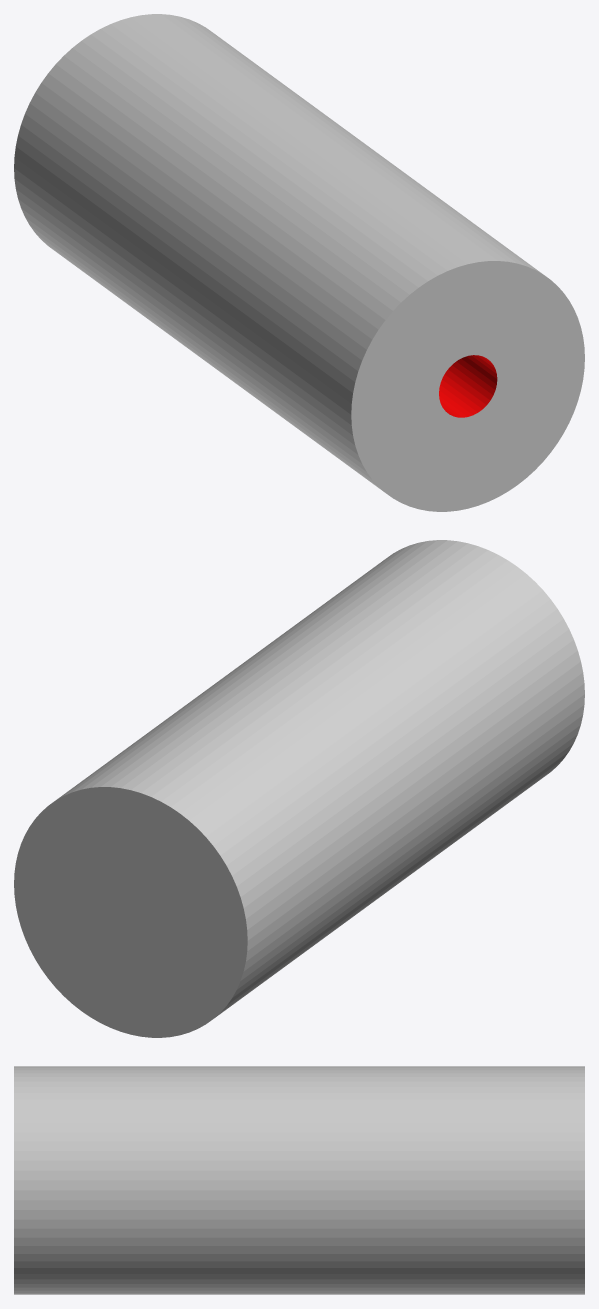
File: BLIND_HOLE_STEP_1_6_7.obj
The picture shows the model from 3 angles, top to bottom: view 1: azimuth 30°, elevation 25°; view 2: azimuth 150°, elevation 25°; view 3: azimuth 270°, elevation 25°; orthographic projection. The views are drawn at different scales.
Parts seen in each view (by area): view 1: Object1; view 2: Object1; view 3: Object1.
Part boxes in pixels (bbox=[...]): Object1: bbox=[14, 14, 584, 511]; Object1: bbox=[14, 540, 584, 1037]; Object1: bbox=[14, 1066, 584, 1294].
Size of the model in its own units: 100 by 100 by 250.
